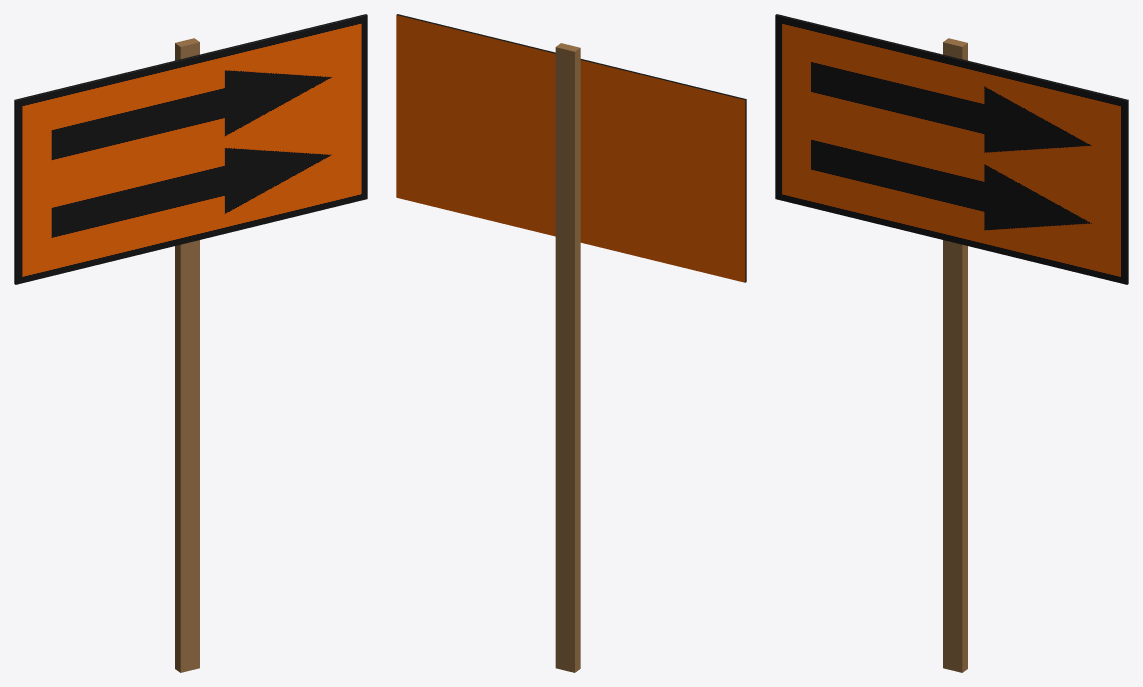
File: arrow2_r.dae
3 views of the same model, side by side, from view 1: azimuth 30°, elevation 25°; view 2: azimuth 150°, elevation 25°; view 3: azimuth 330°, elevation 25° (orthographic).
Visible parts, largest first — view 1: marker; view 2: marker; view 3: marker.
Boxes of the visible parts, bbox=[...] form: marker: bbox=[14, 14, 367, 672]; marker: bbox=[396, 14, 746, 672]; marker: bbox=[775, 14, 1128, 672].
Size of the model in its own units: 0.9 by 0.031 by 1.53.
1 material, 1 textured.
